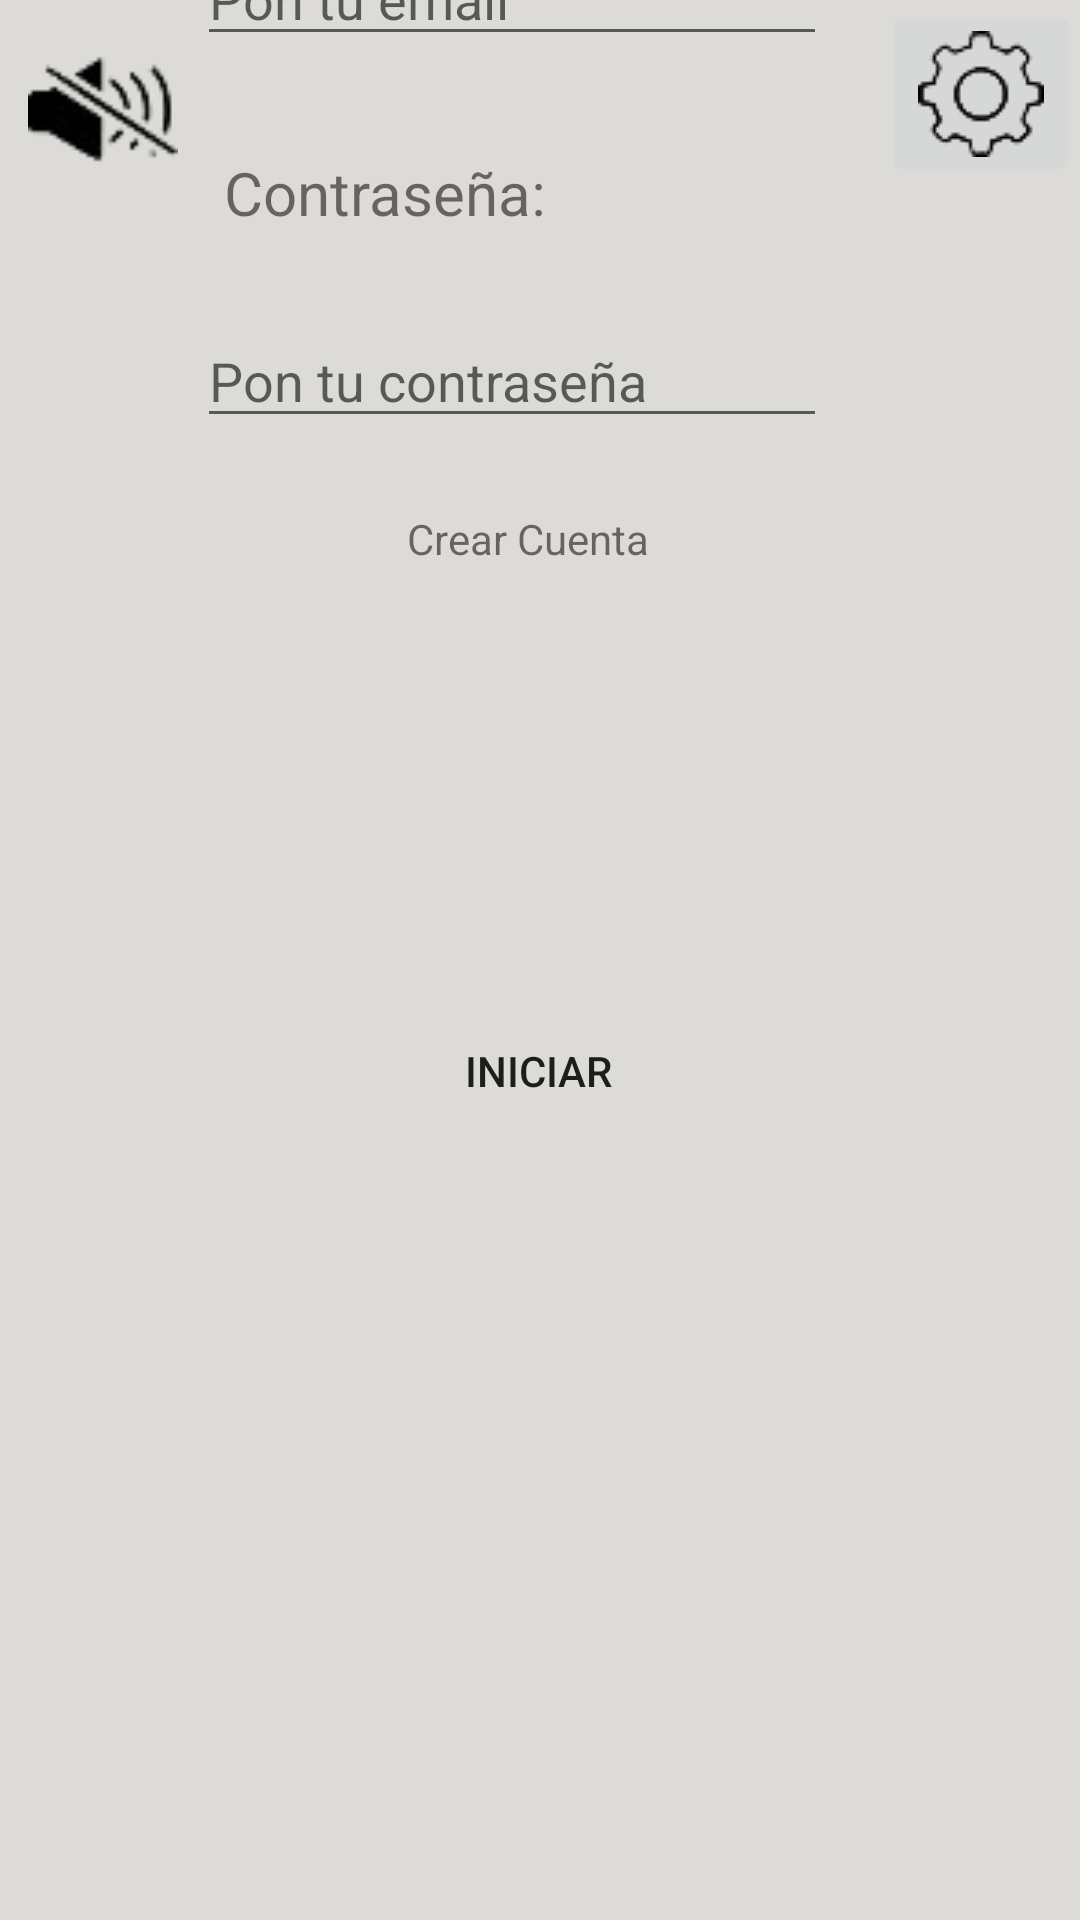

Where to tap for icons on this 1080x1920 app screen, as (x=x, y=y):
ajustes: (x=981, y=94)
muteo: (x=103, y=109)
